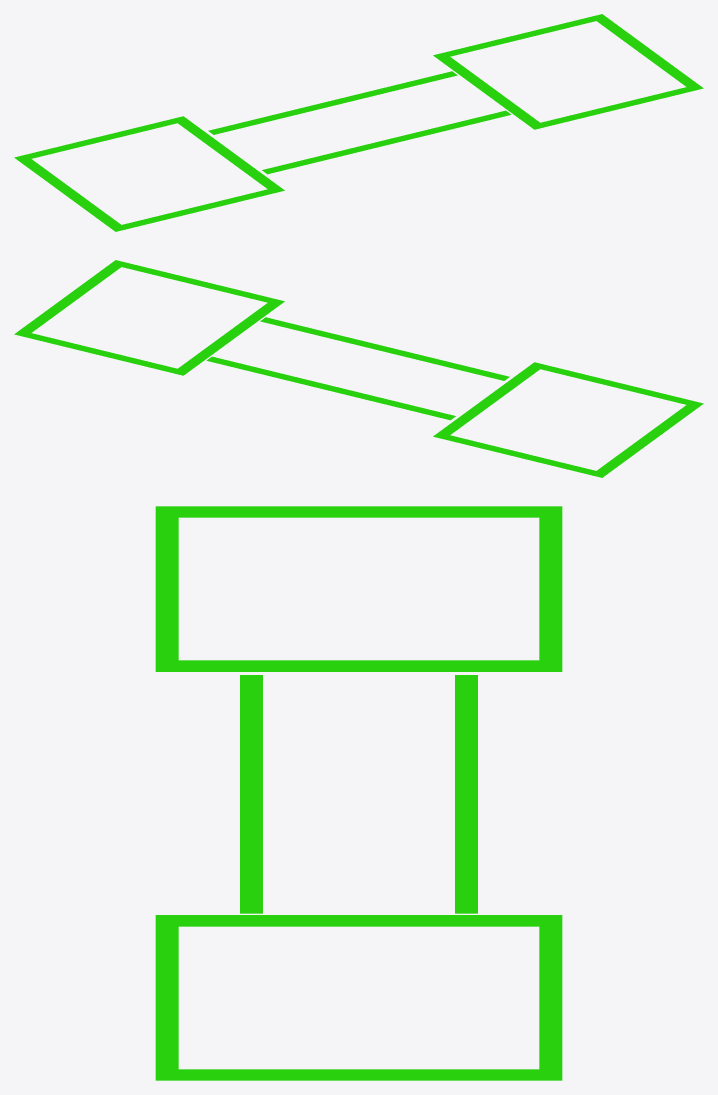
File: MobileWallIndicatorX.glb
The picture shows the model from 3 angles, top to bottom: view 1: azimuth 30°, elevation 25°; view 2: azimuth 150°, elevation 25°; view 3: azimuth 270°, elevation 25°; orthographic projection. The views are drawn at different scales.
Visible parts, largest first — view 1: MobileWallIndicatorX; view 2: MobileWallIndicatorX; view 3: MobileWallIndicatorX.
Part boxes in pixels (box(x1,y1,x2,y2)): MobileWallIndicatorX: box(14, 14, 703, 231); MobileWallIndicatorX: box(14, 260, 703, 477); MobileWallIndicatorX: box(155, 506, 562, 1080).
Bounding box in the file's own units: 35.4 × 0 × 10.6.
1 material, 1 textured.
